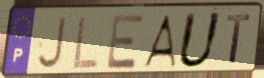A: (140, 13, 178, 68)
E: (105, 13, 146, 71)
J: (35, 15, 68, 71)
L: (71, 14, 101, 71)
T: (225, 13, 253, 67)
U: (175, 11, 224, 71)
